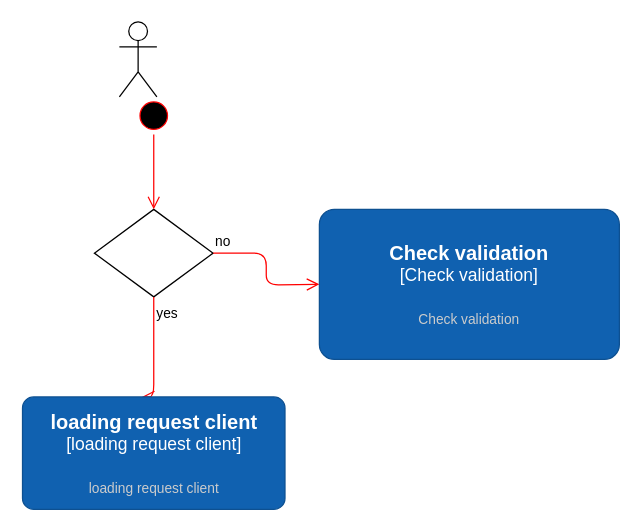
Image size: 641x531. Some labels were removed from this diagram. The shapes that lost their labels are listed below. From the top down, each one's centre as x and y in pixels, then its label:
At [137,59]: "Actor".
At [153,252]: "databook".
